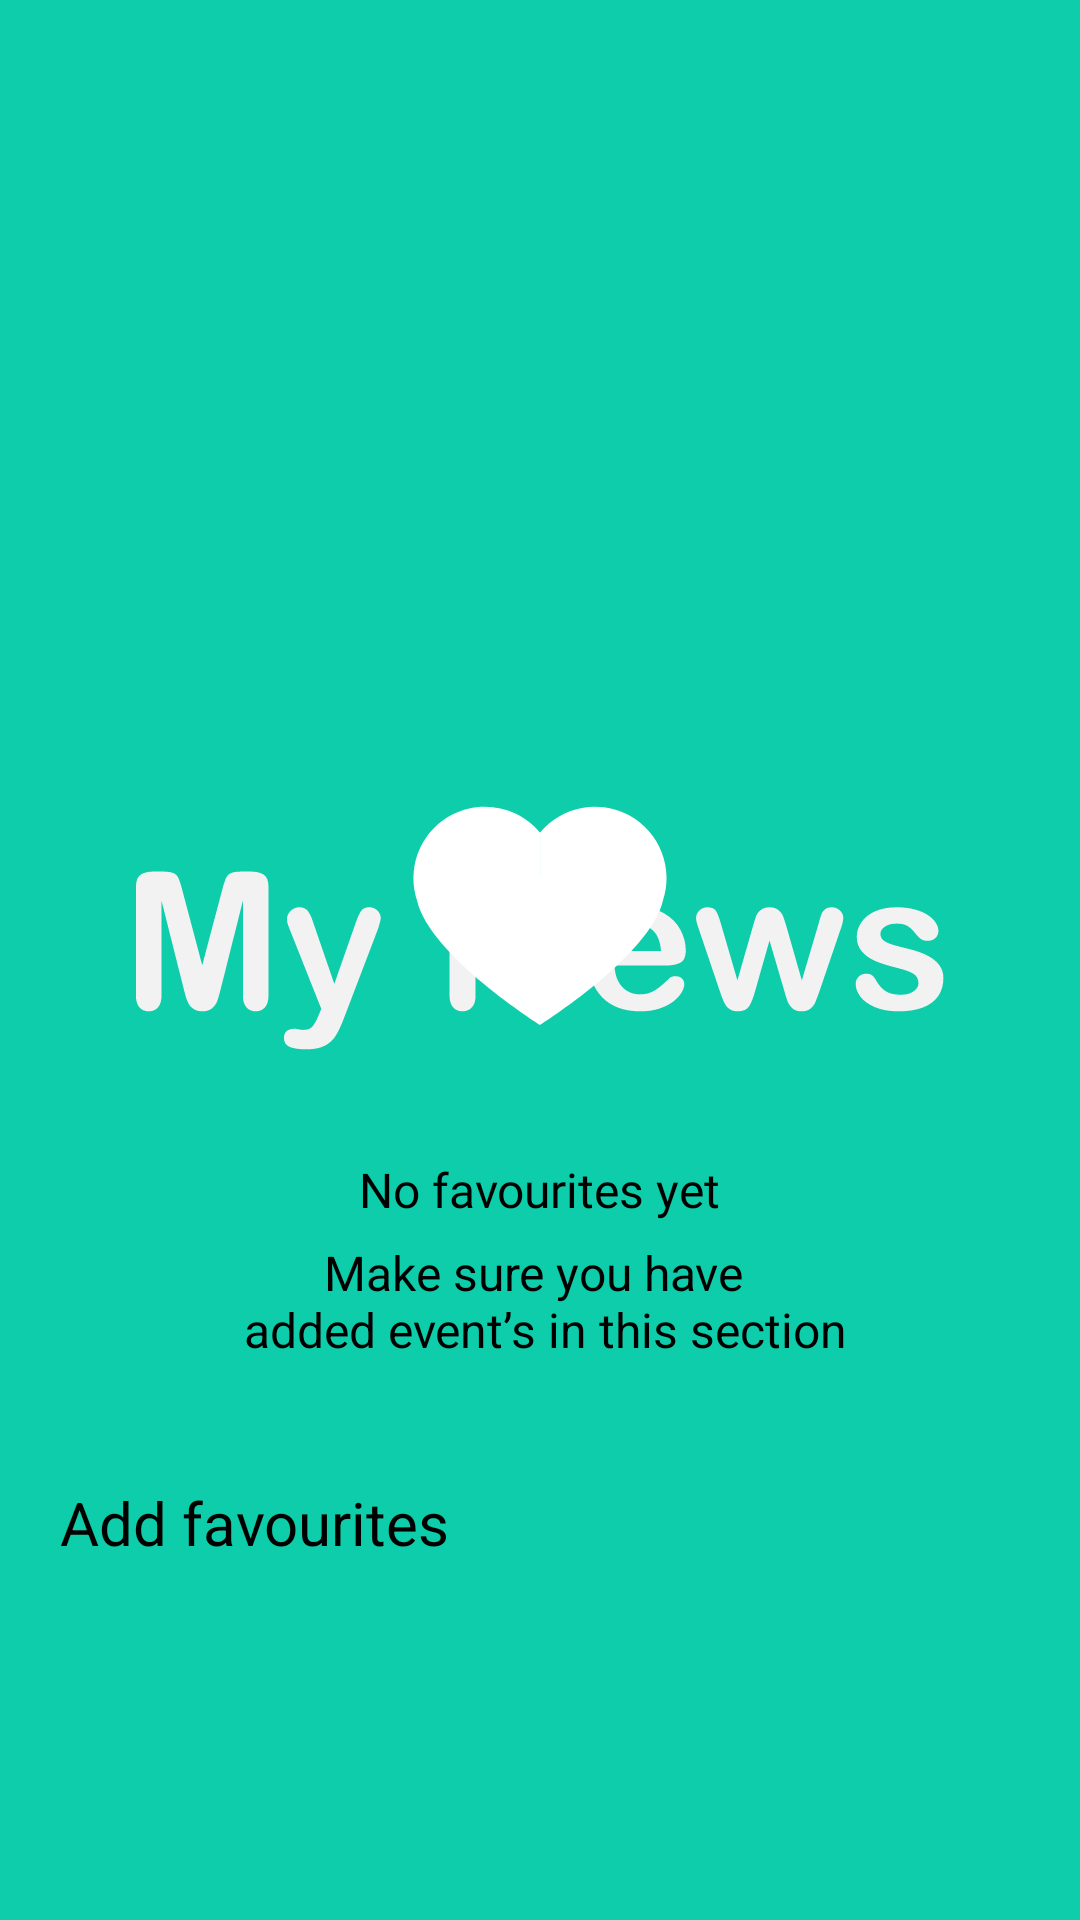

Icons on this 1080×1920 Android screen, each with the point to tap as [x,y]:
heart no favorites: [541,915]
